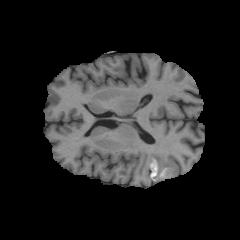glioma: (145, 152, 180, 184)
